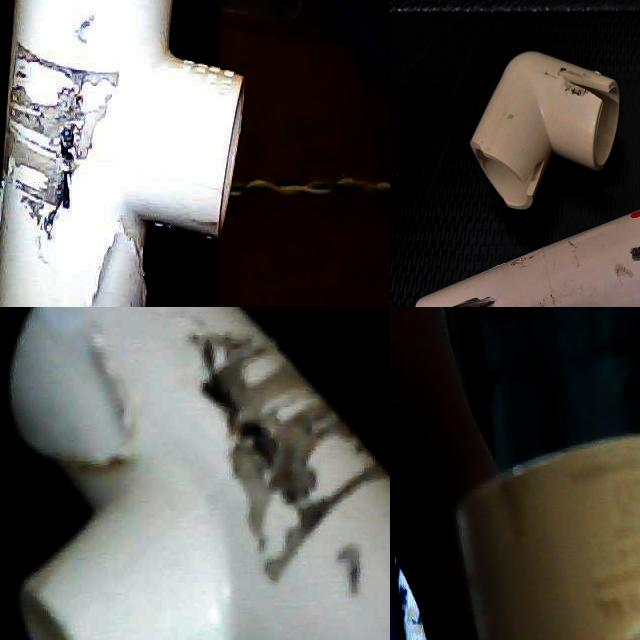Defective: (167, 308, 366, 630), (12, 36, 120, 228), (49, 407, 149, 502), (93, 220, 151, 307), (528, 0, 576, 95), (462, 181, 535, 235), (604, 281, 626, 307), (635, 282, 640, 307)
T Joint: (5, 307, 390, 640), (451, 0, 640, 307)
